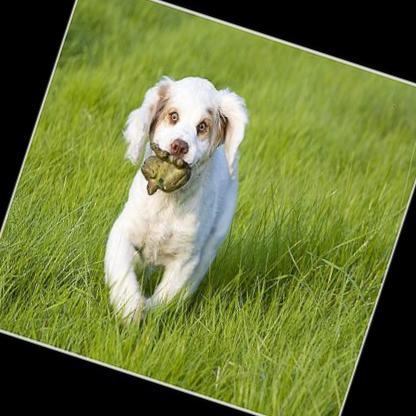clumber: (65, 58, 271, 346)
